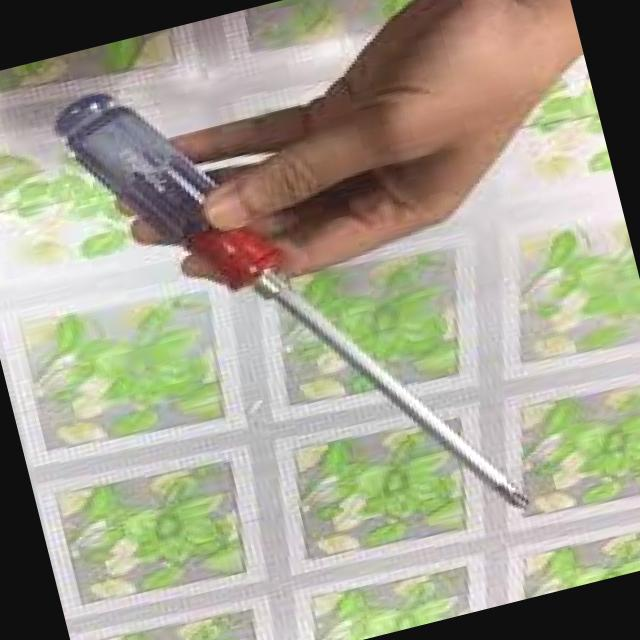screwdriver: (56, 95, 528, 507)
